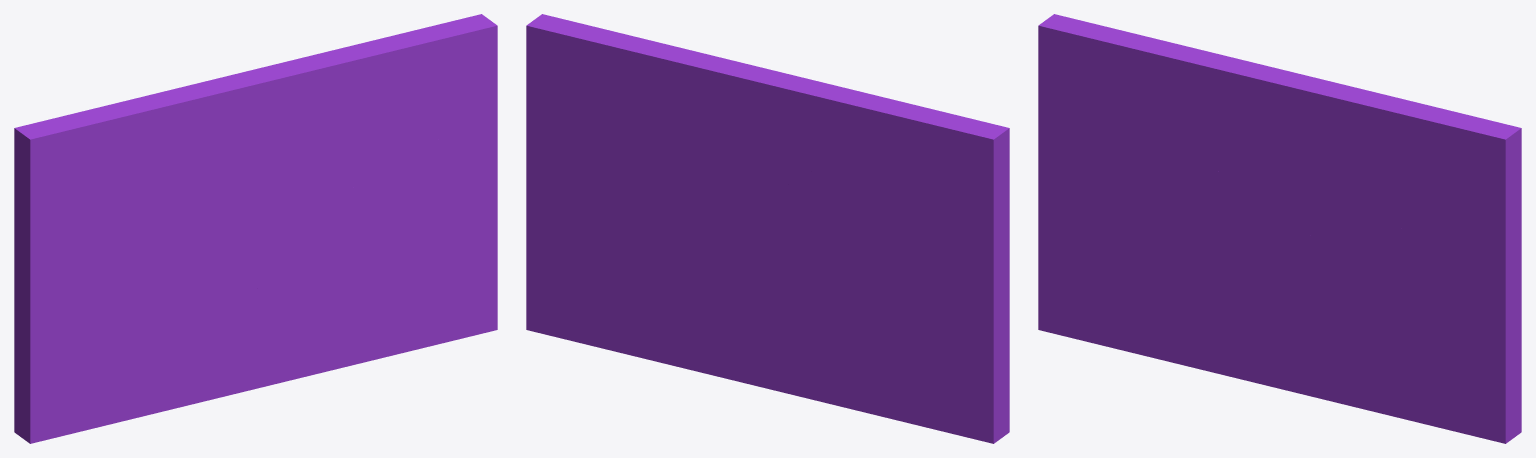
File: Barrier_70_chunks.fbx
The picture shows the model from 3 angles, left to right: view 1: azimuth 30°, elevation 25°; view 2: azimuth 150°, elevation 25°; view 3: azimuth 330°, elevation 25°; orthographic projection.
Visible parts, largest first — view 1: Barrier_70_2, Barrier_70_1, Barrier_70_3, Barrier_70_5, Barrier_70_6; view 2: Barrier_70_2, Barrier_70_1, Barrier_70_3, Barrier_70_6, Barrier_70_0, Barrier_70_4, Barrier_70_5; view 3: Barrier_70_2, Barrier_70_1, Barrier_70_3, Barrier_70_5, Barrier_70_6.
Boxes of the visible parts, <box> form: Barrier_70_2: <box>14,111,266,443</box>; Barrier_70_1: <box>240,105,497,392</box>; Barrier_70_3: <box>91,70,309,237</box>; Barrier_70_5: <box>288,40,497,223</box>; Barrier_70_6: <box>250,14,497,120</box>; Barrier_70_2: <box>767,110,1009,443</box>; Barrier_70_1: <box>526,97,789,393</box>; Barrier_70_3: <box>719,68,936,204</box>; Barrier_70_6: <box>526,14,765,125</box>; Barrier_70_0: <box>732,119,924,259</box>; Barrier_70_4: <box>628,114,750,214</box>; Barrier_70_5: <box>526,61,651,154</box>; Barrier_70_2: <box>1038,14,1274,380</box>; Barrier_70_1: <box>1248,199,1521,443</box>; Barrier_70_3: <box>1111,33,1318,238</box>; Barrier_70_5: <box>1297,143,1521,236</box>; Barrier_70_6: <box>1282,71,1521,162</box>.
Size of the model in its own units: 462 by 288 by 27.2.
